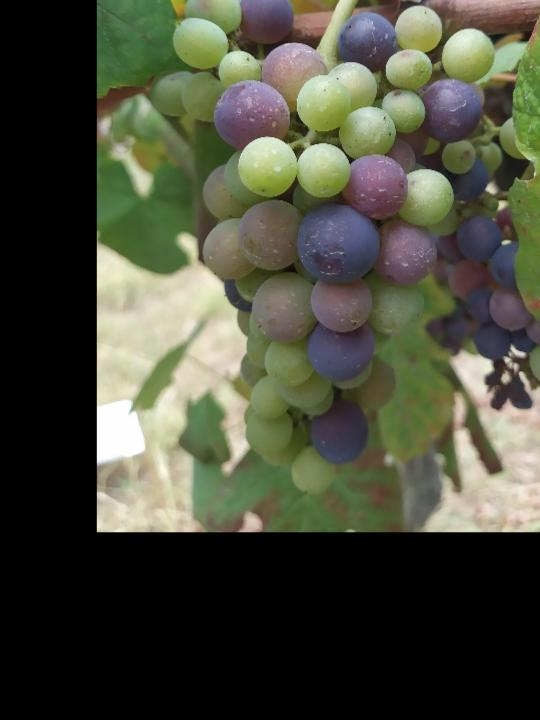grape: (170, 0, 501, 498)
